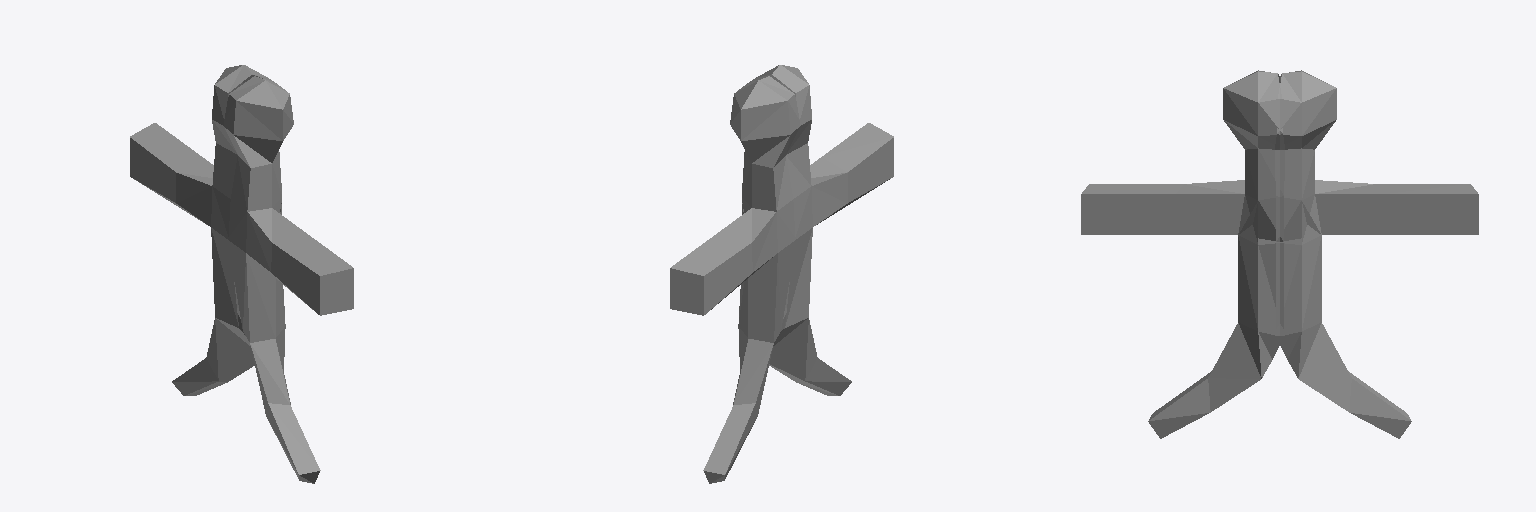
File: ningen.obj
3 views of the same model, side by side, from view 1: azimuth 30°, elevation 25°; view 2: azimuth 150°, elevation 25°; view 3: azimuth 270°, elevation 25° (orthographic).
Visible parts, largest first — view 1: Cube_Cube.001; view 2: Cube_Cube.001; view 3: Cube_Cube.001.
Boxes of the visible parts, x1=… form: Cube_Cube.001: x1=130, y1=65, x2=353, y2=483; Cube_Cube.001: x1=670, y1=65, x2=893, y2=483; Cube_Cube.001: x1=1081, y1=70, x2=1478, y2=438.
Size of the model in its own units: 0.7683 by 4.04 by 3.96.